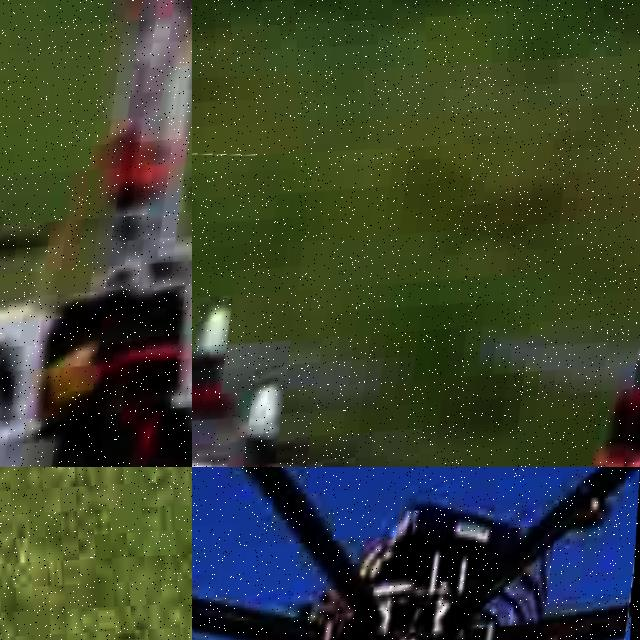drone: (192, 131, 640, 467), (0, 0, 192, 467), (192, 467, 640, 640)
